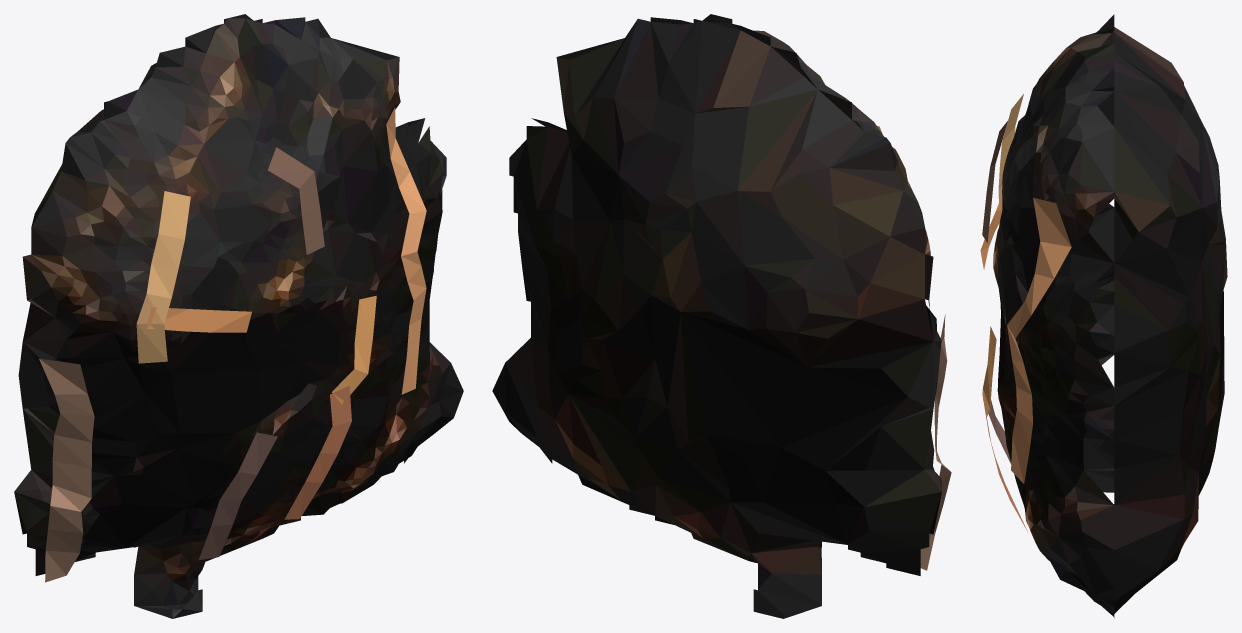
3 renders of one model, left to right at view 1: azimuth 30°, elevation 25°; view 2: azimuth 150°, elevation 25°; view 3: azimuth 270°, elevation 25°, orthographic. The views are drawn at different scales.
Visible parts, largest first — view 1: object 2, detail; view 2: object 2, detail; view 3: object 2, detail.
Boxes of the visible parts, x1,y1,x2,y2 form: object 2: [14, 14, 463, 618]; detail: [39, 107, 426, 582]; object 2: [492, 14, 941, 618]; detail: [877, 126, 951, 570]; object 2: [993, 14, 1227, 617]; detail: [980, 94, 1071, 531].
Bounding box in the file's own units: 105 × 131 × 48.73.
